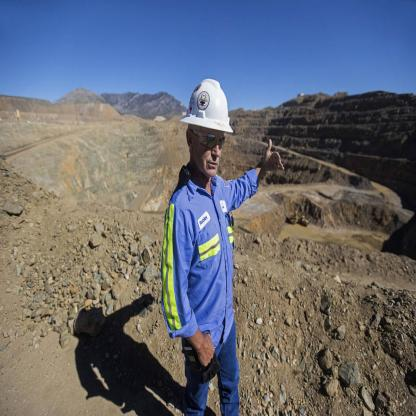person: (156, 67, 306, 416)
